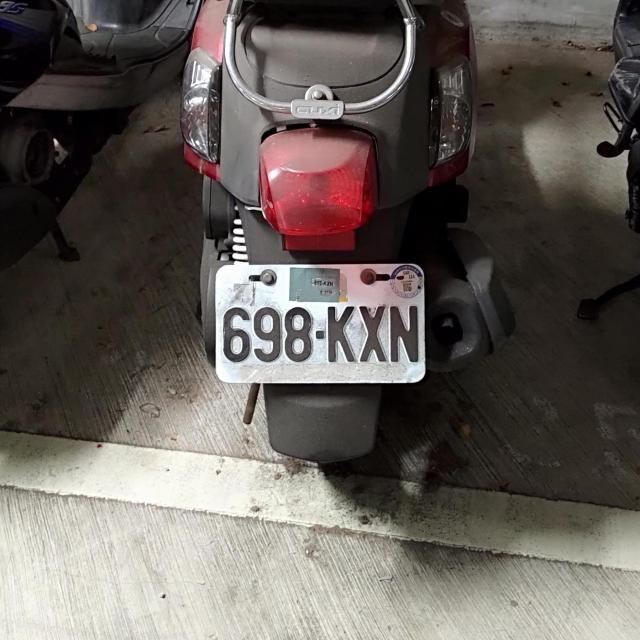W: (212, 260, 428, 385)
